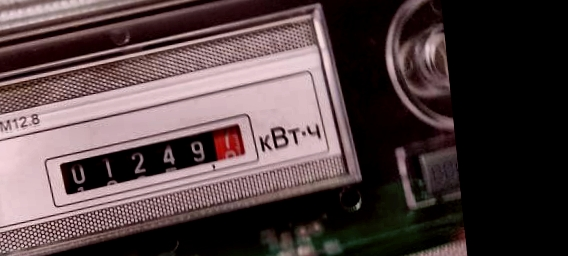0: (65, 157, 87, 185)
1: (97, 153, 115, 179)
2: (127, 147, 149, 175)
4: (158, 138, 179, 167)
7: (217, 125, 234, 150)
9: (187, 135, 207, 162)
screen: (35, 113, 274, 211)
